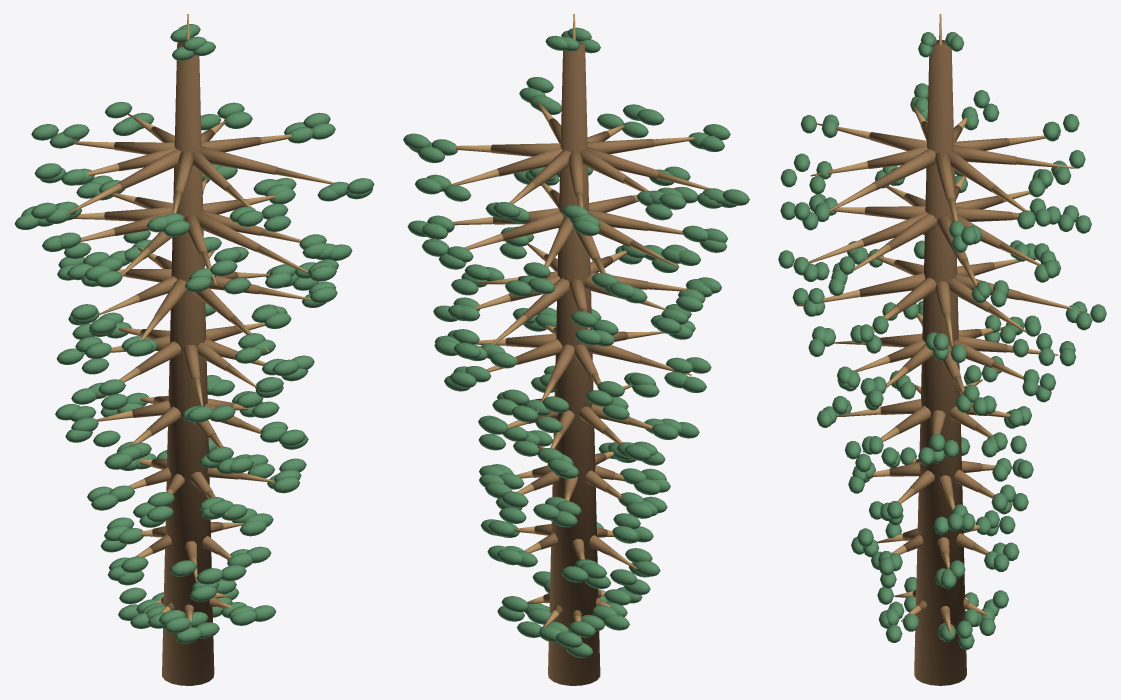
Rendered from conifer_tree.glb.
3 views of the same model, side by side, from view 1: azimuth 30°, elevation 25°; view 2: azimuth 150°, elevation 25°; view 3: azimuth 270°, elevation 25° (orthographic).
Parts seen in each view (by area): view 1: conifer_tree_trunk, conifer_tree_branch_0_8_a, conifer_tree_branch_0_5_a, conifer_tree_branch_1_7_a, conifer_tree_branch_1_3_a, conifer_tree_branch_0_0_a, conifer_tree_branch_0_3_a, conifer_tree_branch_3_4_a, conifer_tree_branch_0_7_a, conifer_tree_branch_0_6_a; view 2: conifer_tree_trunk, conifer_tree_branch_1_1_a, conifer_tree_branch_0_1_a, conifer_tree_branch_0_5_a, conifer_tree_branch_0_0_a, conifer_tree_branch_0_6_a, conifer_tree_branch_2_2_a, conifer_tree_branch_0_4_a, conifer_tree_branch_1_5_a, conifer_tree_branch_0_2_a, conifer_tree_branch_3_1_a, conifer_tree_branch_3_4_a (+1 smaller); view 3: conifer_tree_trunk, conifer_tree_branch_0_8_a, conifer_tree_branch_2_6_a, conifer_tree_branch_0_2_a, conifer_tree_branch_1_8_a, conifer_tree_branch_1_6_a, conifer_tree_branch_0_1_a, conifer_tree_branch_1_2_a, conifer_tree_branch_1_7_a, conifer_tree_branch_0_6_a, conifer_tree_branch_0_0_a, conifer_tree_branch_0_7_a (+4 smaller).
Boxes of the visible parts, left/top/right/bottom form: conifer_tree_trunk: left=162, top=41, right=214, bottom=685; conifer_tree_branch_0_8_a: left=199, top=146, right=276, bottom=174; conifer_tree_branch_0_5_a: left=117, top=149, right=180, bottom=190; conifer_tree_branch_1_7_a: left=196, top=213, right=260, bottom=251; conifer_tree_branch_1_3_a: left=104, top=207, right=172, bottom=221; conifer_tree_branch_0_0_a: left=201, top=137, right=261, bottom=152; conifer_tree_branch_0_3_a: left=114, top=142, right=174, bottom=154; conifer_tree_branch_3_4_a: left=135, top=341, right=180, bottom=374; conifer_tree_branch_0_7_a: left=192, top=150, right=231, bottom=191; conifer_tree_branch_0_6_a: left=174, top=151, right=193, bottom=194; conifer_tree_trunk: left=548, top=42, right=600, bottom=685; conifer_tree_branch_1_1_a: left=501, top=211, right=563, bottom=241; conifer_tree_branch_0_1_a: left=497, top=147, right=562, bottom=176; conifer_tree_branch_0_5_a: left=586, top=147, right=659, bottom=178; conifer_tree_branch_0_0_a: left=490, top=143, right=560, bottom=156; conifer_tree_branch_0_6_a: left=587, top=139, right=654, bottom=154; conifer_tree_branch_2_2_a: left=522, top=278, right=570, bottom=321; conifer_tree_branch_0_4_a: left=580, top=149, right=627, bottom=183; conifer_tree_branch_1_5_a: left=588, top=209, right=648, bottom=230; conifer_tree_branch_0_2_a: left=529, top=150, right=570, bottom=188; conifer_tree_branch_3_1_a: left=515, top=339, right=562, bottom=364; conifer_tree_branch_3_4_a: left=587, top=345, right=640, bottom=363; conifer_tree_trunk: left=914, top=40, right=966, bottom=685; conifer_tree_branch_0_8_a: left=872, top=149, right=935, bottom=190; conifer_tree_branch_2_6_a: left=859, top=273, right=925, bottom=297; conifer_tree_branch_0_2_a: left=953, top=145, right=1016, bottom=164; conifer_tree_branch_1_8_a: left=886, top=213, right=937, bottom=251; conifer_tree_branch_1_6_a: left=864, top=206, right=925, bottom=219; conifer_tree_branch_0_1_a: left=947, top=150, right=995, bottom=191; conifer_tree_branch_1_2_a: left=956, top=207, right=1012, bottom=221; conifer_tree_branch_1_7_a: left=861, top=211, right=927, bottom=246; conifer_tree_branch_0_6_a: left=869, top=132, right=926, bottom=150; conifer_tree_branch_0_0_a: left=934, top=151, right=955, bottom=200; conifer_tree_branch_0_7_a: left=867, top=146, right=927, bottom=168.
Size of the model in its own units: 3.6 by 7.07 by 3.19.
